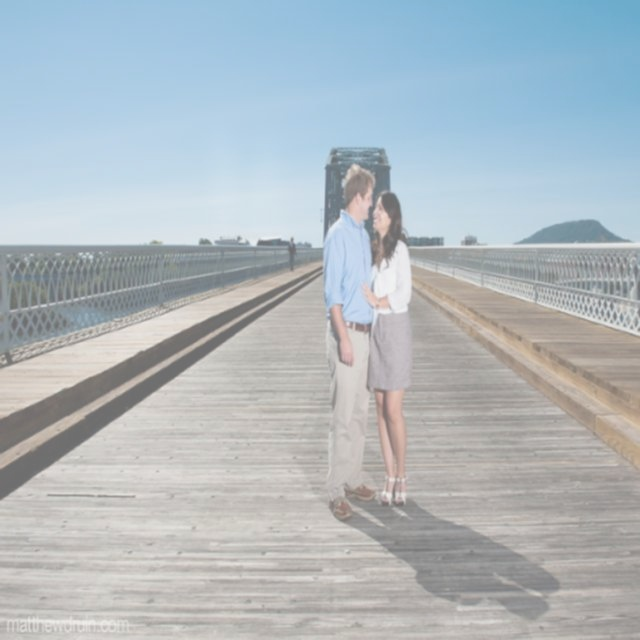pessoa: (320, 162, 378, 524), (359, 188, 413, 508), (286, 235, 298, 273)
